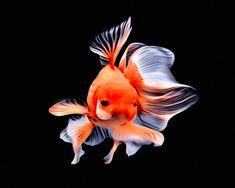goldfish: (55, 44, 196, 151)
